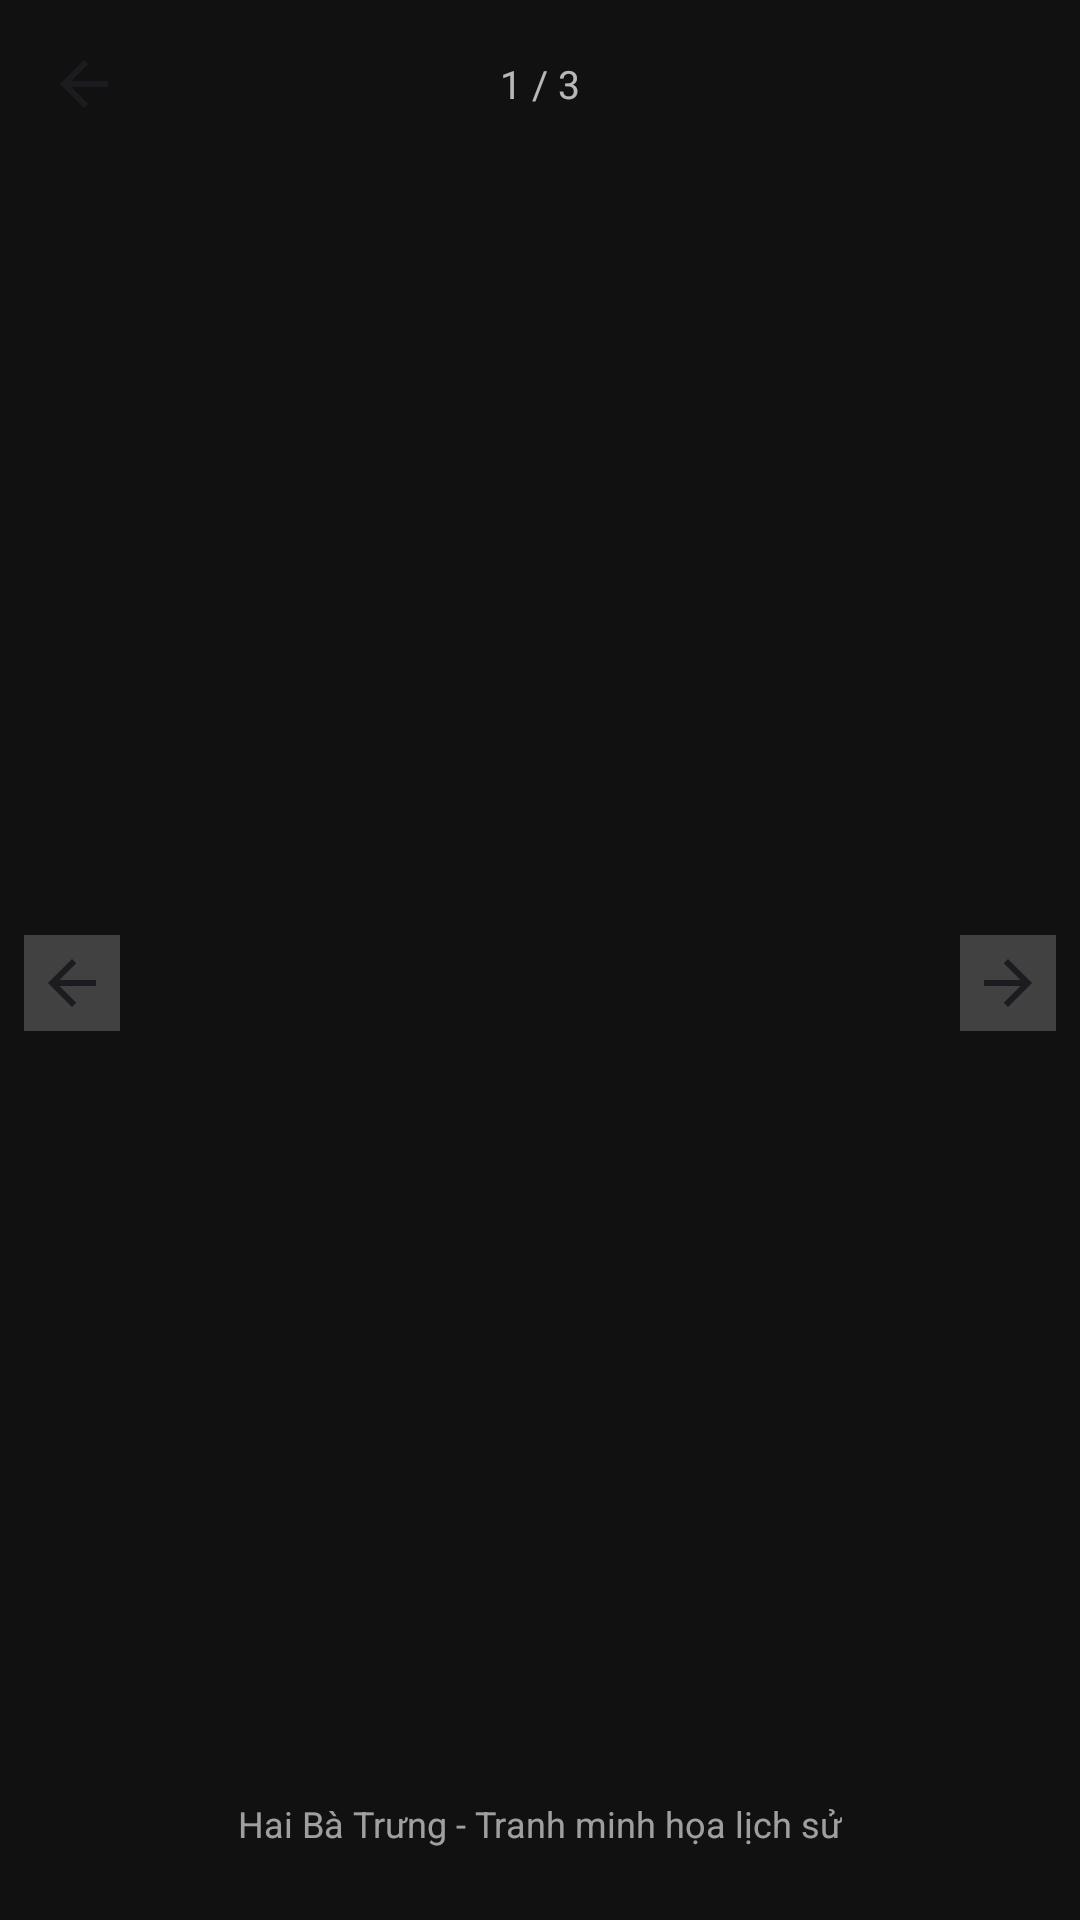

Named icons in this screenshot (1080 × 1920) and their bounding boxes, (x1, y1, x2, y2):
Previous: (24, 935, 120, 1031)
